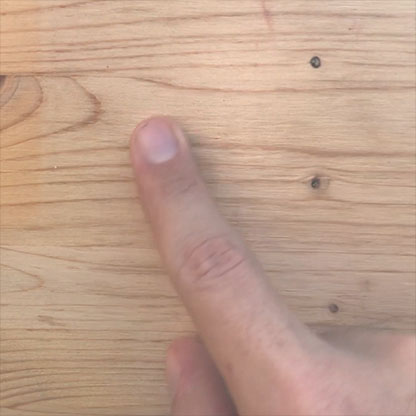fingertip: (119, 106, 210, 184)
